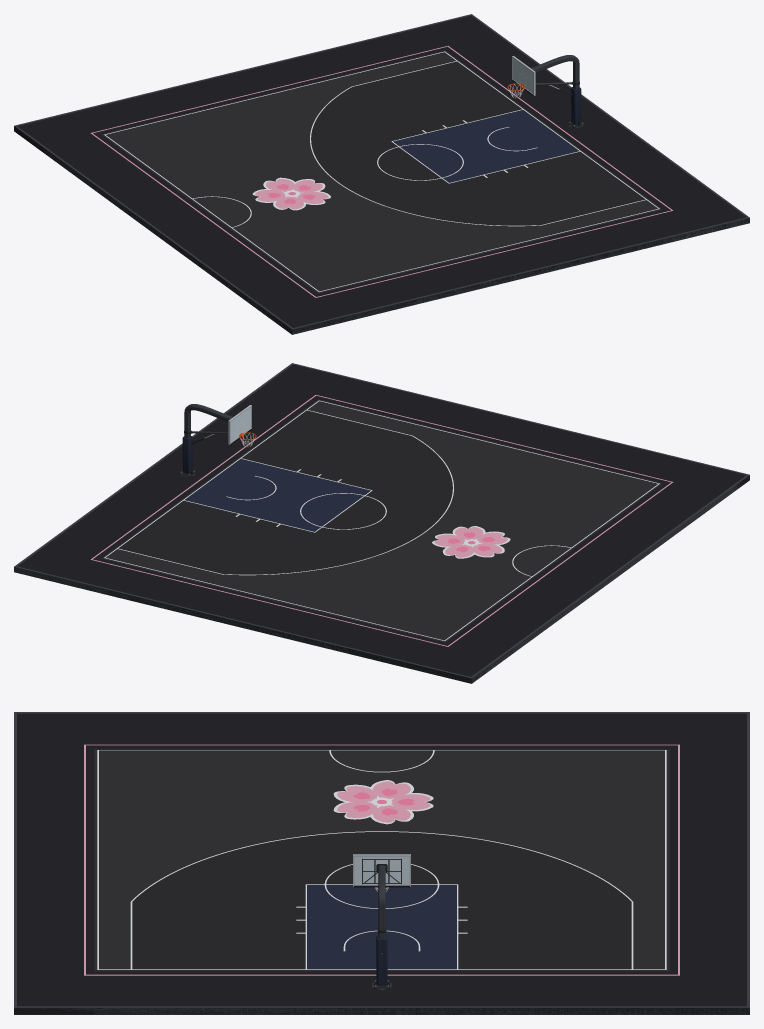
The model's file is HEX_Tokyo_HalfCourt.fbx.
3 renders of one model, top to bottom at view 1: azimuth 30°, elevation 25°; view 2: azimuth 150°, elevation 25°; view 3: azimuth 270°, elevation 25°, orthographic. The views are drawn at different scales.
Parts seen in each view (by area): view 1: Floor_Surface, Floor_ThreePoint, Border_Apron_S, Border_Apron_N, Border_Apron_W, Border_Apron_E, Floor_Paint, Border_Edge, Lines, Graphics_PerimeterAccent, Graphics_Emblem, Hoop_Support; view 2: Floor_Surface, Floor_ThreePoint, Border_Apron_N, Border_Apron_S, Border_Apron_W, Border_Apron_E, Floor_Paint, Border_Edge, Lines, Graphics_Emblem, Graphics_PerimeterAccent, Hoop_Support; view 3: Floor_Surface, Floor_ThreePoint, Border_Apron_E, Border_Apron_S, Border_Apron_N, Border_Apron_W, Floor_Paint, Border_Edge, Lines, Graphics_Emblem, Graphics_PerimeterAccent, Hoop_Backboard_Glass (+2 smaller).
Boxes of the visible parts, x1,y1,x2,y2 form: Floor_Surface: (101, 50, 662, 293); Floor_ThreePoint: (311, 61, 645, 225); Border_Apron_S: (262, 196, 749, 334); Border_Apron_N: (14, 15, 499, 152); Border_Apron_W: (44, 134, 317, 311); Border_Apron_E: (445, 37, 716, 209); Floor_Paint: (393, 110, 579, 182); Border_Edge: (14, 14, 749, 334); Lines: (104, 51, 659, 291); Graphics_PerimeterAccent: (90, 46, 672, 297); Graphics_Emblem: (193, 177, 330, 227); Hoop_Support: (531, 55, 584, 127); Floor_Surface: (101, 399, 662, 642); Floor_ThreePoint: (118, 410, 452, 574); Border_Apron_N: (15, 545, 501, 683); Border_Apron_S: (264, 364, 749, 496); Border_Apron_W: (446, 483, 716, 658); Border_Apron_E: (47, 386, 318, 558); Floor_Paint: (184, 459, 370, 531); Border_Edge: (14, 363, 749, 683); Lines: (104, 400, 659, 640); Graphics_Emblem: (432, 526, 570, 576); Graphics_PerimeterAccent: (91, 395, 673, 646); Hoop_Support: (179, 404, 232, 476); Floor_Surface: (94, 749, 669, 971); Floor_ThreePoint: (132, 832, 631, 969); Border_Apron_E: (94, 971, 669, 1014); Border_Apron_S: (14, 714, 94, 1014); Border_Apron_N: (669, 714, 749, 1014); Border_Apron_W: (94, 714, 669, 749); Floor_Paint: (307, 885, 456, 969); Border_Edge: (14, 712, 749, 1014); Lines: (97, 750, 666, 969); Graphics_Emblem: (329, 750, 434, 824); Graphics_PerimeterAccent: (84, 744, 679, 975); Hoop_Backboard_Glass: (354, 856, 409, 884).
Bounding box in the file's own units: 80.74 × 13.25 × 84.99.
Materials: 1 (1 with a texture image).
